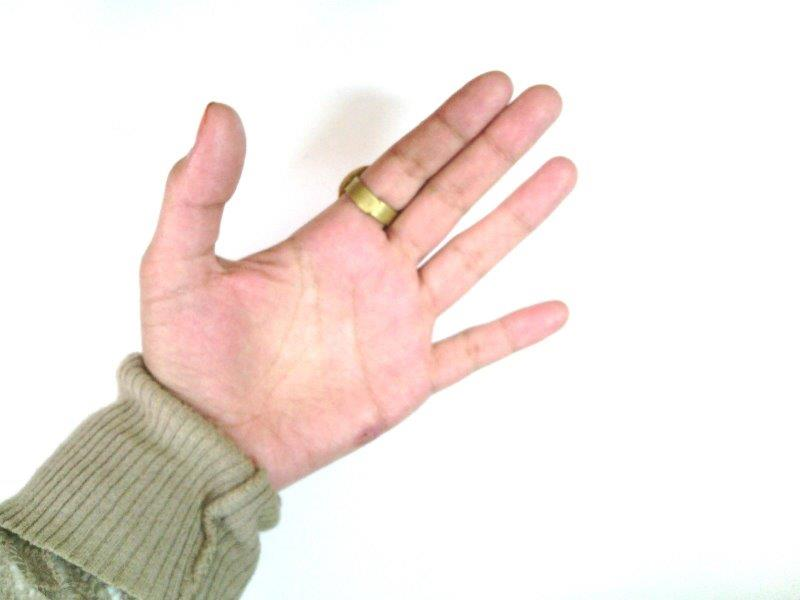hand: (140, 70, 579, 460)
